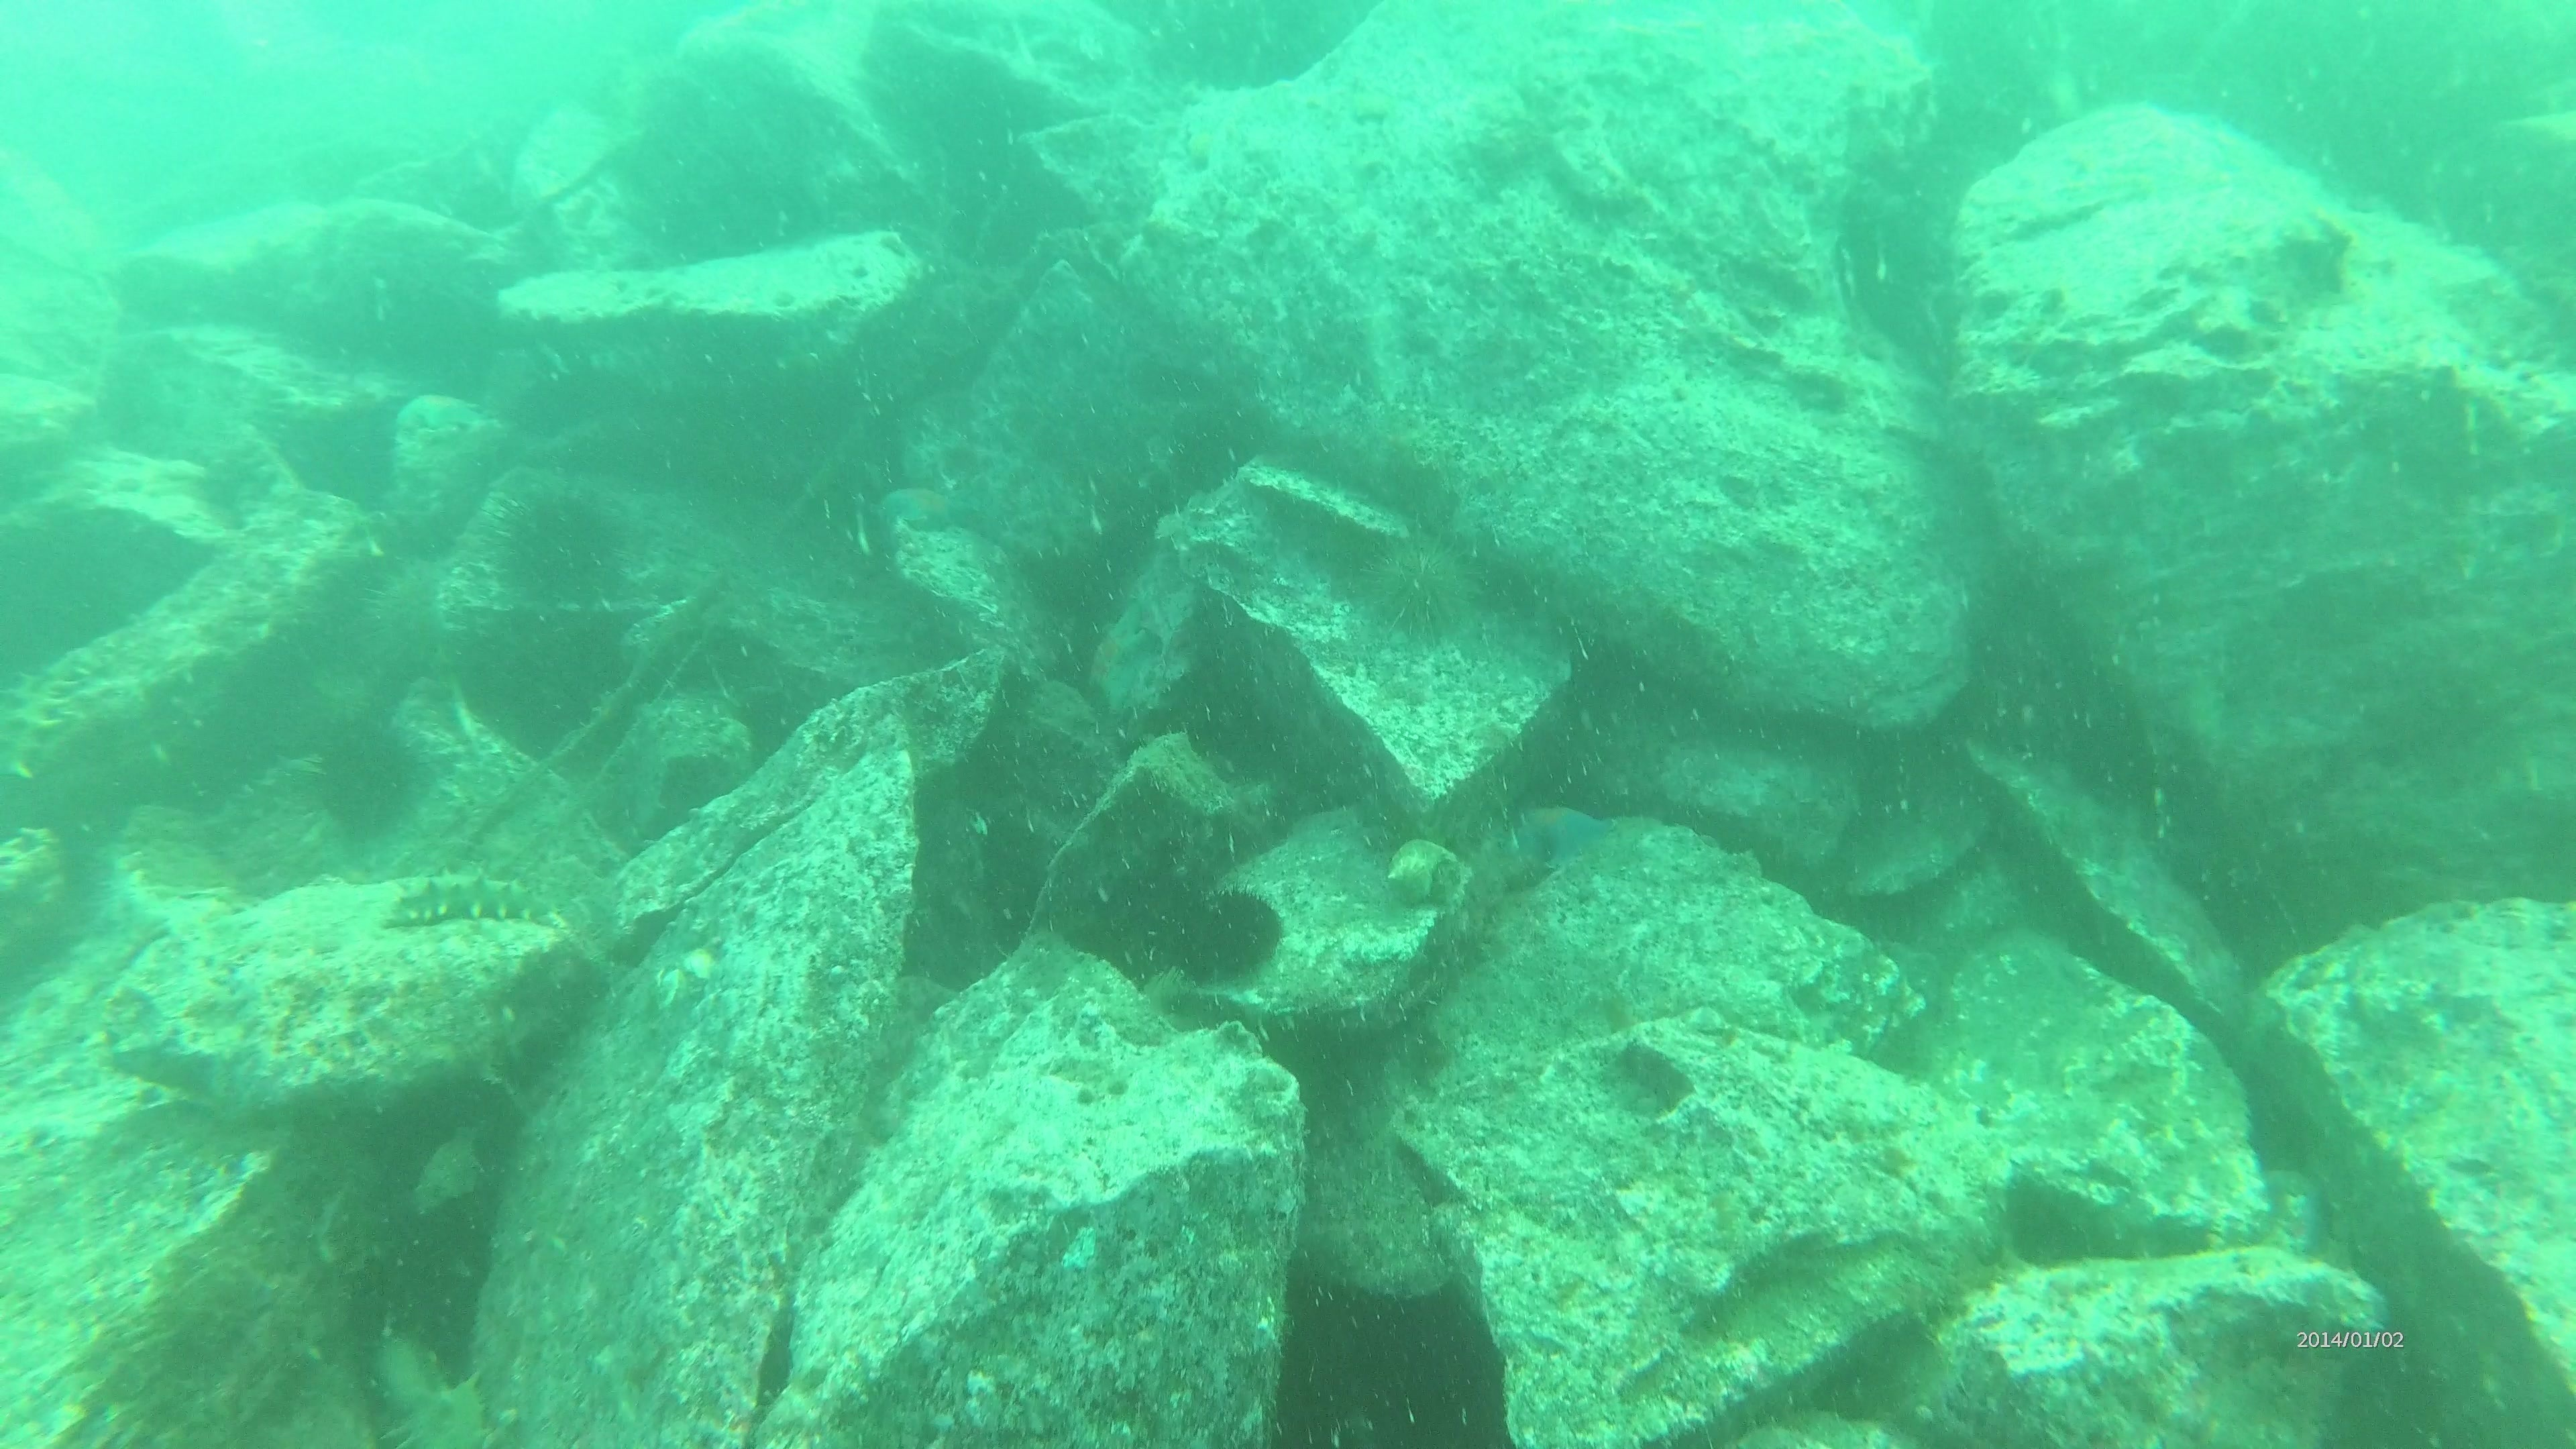echinus: (487, 479, 637, 614), (299, 713, 435, 846), (1350, 527, 1488, 648), (350, 545, 467, 683), (1157, 878, 1290, 993)
holothurian: (359, 1322, 508, 1445), (382, 863, 561, 938), (0, 651, 92, 791), (0, 826, 67, 987)
starfish: (1504, 794, 1622, 879)
